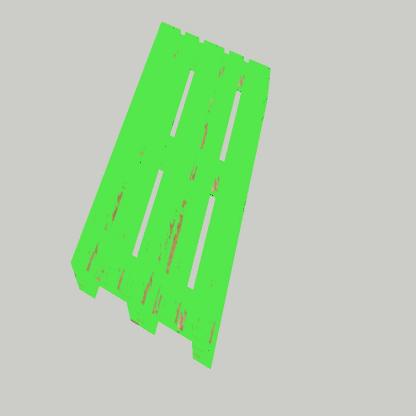BoxFace: (68, 11, 273, 379)
